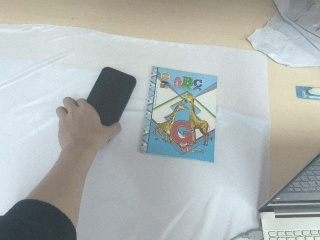book: (140, 65, 218, 163)
phone: (86, 67, 137, 127)
